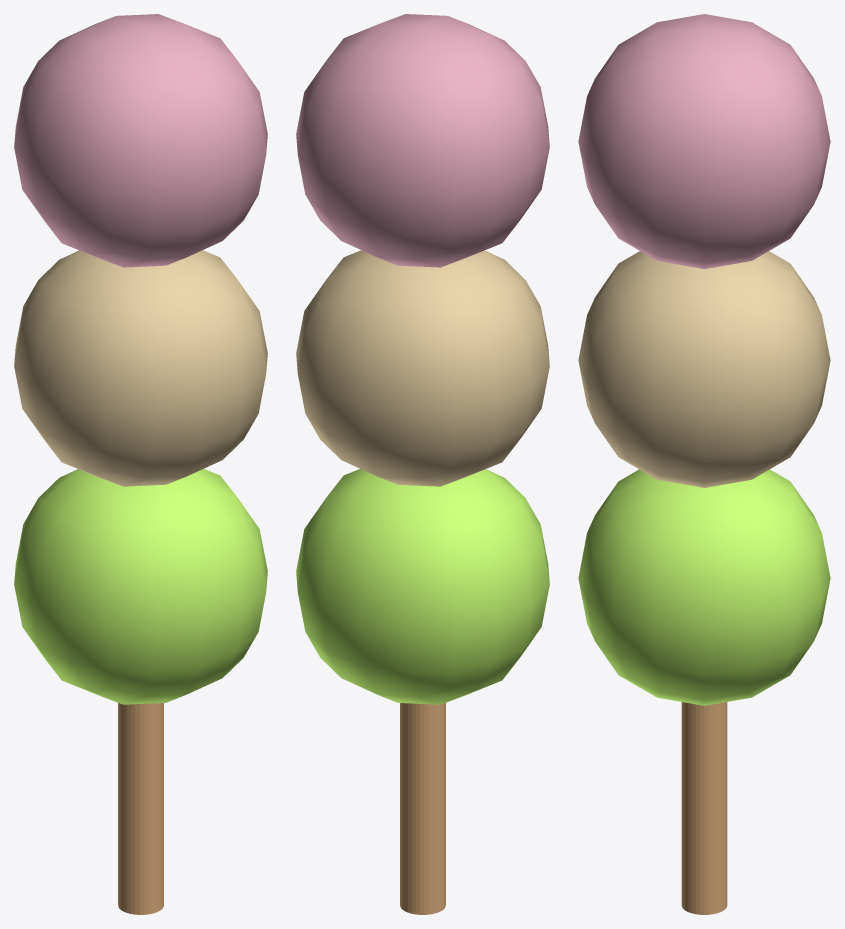
The model's file is dango.fbx.
The picture shows the model from 3 angles, left to right: view 1: azimuth 30°, elevation 25°; view 2: azimuth 150°, elevation 25°; view 3: azimuth 270°, elevation 25°; orthographic projection.
Visible parts, largest first — view 1: Cube, Cube.001, Cube.002, Cylinder; view 2: Cube, Cube.001, Cube.002, Cylinder; view 3: Cube, Cube.001, Cube.002, Cylinder.
Boxes of the visible parts, x1,y1,x2,y2 form: Cube: (14, 14, 267, 267); Cube.001: (14, 250, 267, 486); Cube.002: (14, 469, 267, 704); Cylinder: (118, 703, 163, 914); Cube: (296, 14, 549, 267); Cube.001: (296, 250, 549, 486); Cube.002: (296, 469, 549, 704); Cylinder: (400, 703, 445, 914); Cube: (578, 14, 830, 268); Cube.001: (578, 251, 830, 487); Cube.002: (578, 469, 830, 705); Cylinder: (681, 702, 727, 914).
Bounding box in the file's own units: 147 × 563 × 147.
